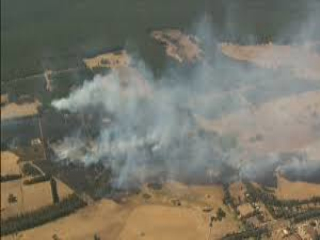smoke: (57, 49, 312, 187)
